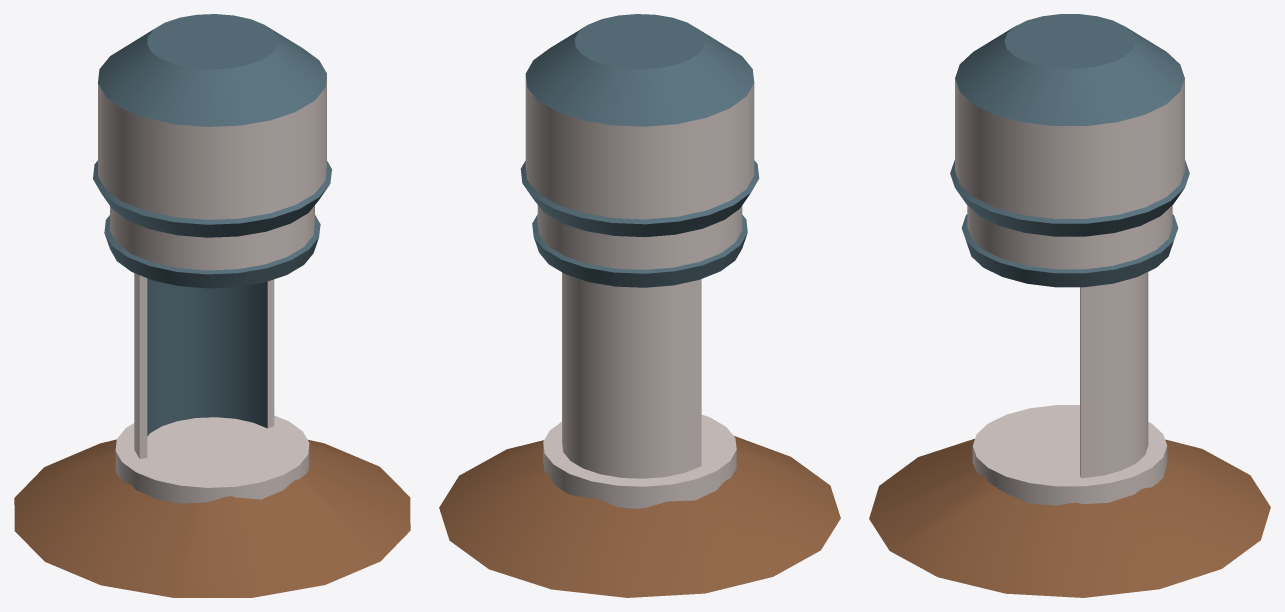
The model's file is Captured_machine.fbx.
3 renders of one model, left to right at view 1: azimuth 30°, elevation 25°; view 2: azimuth 150°, elevation 25°; view 3: azimuth 270°, elevation 25°, orthographic.
Parts seen in each view (by area): view 1: Captured_Machine; view 2: Captured_Machine; view 3: Captured_Machine.
Part boxes in pixels (x1=…): Captured_Machine: x1=14, y1=14, x2=410, y2=597; Captured_Machine: x1=439, y1=14, x2=840, y2=597; Captured_Machine: x1=869, y1=14, x2=1270, y2=597.
Size of the model in its own units: 463 by 600 by 463.
